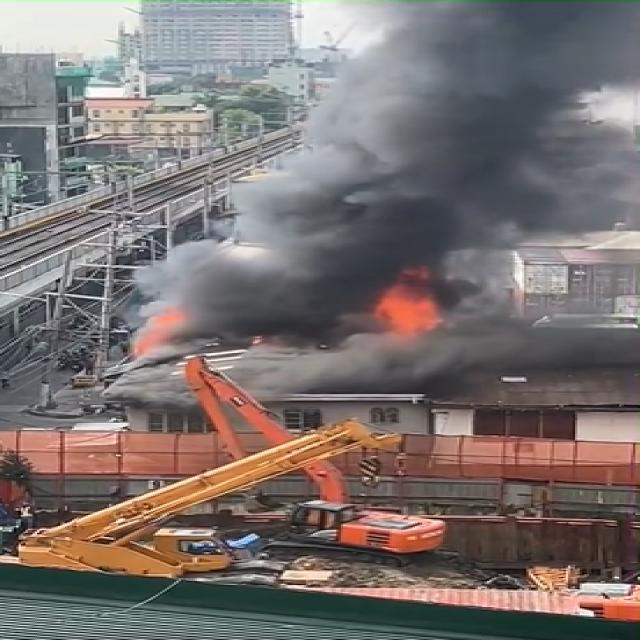Fire: (116, 304, 192, 372), (377, 273, 452, 335)
Smoke: (141, 0, 639, 380)
